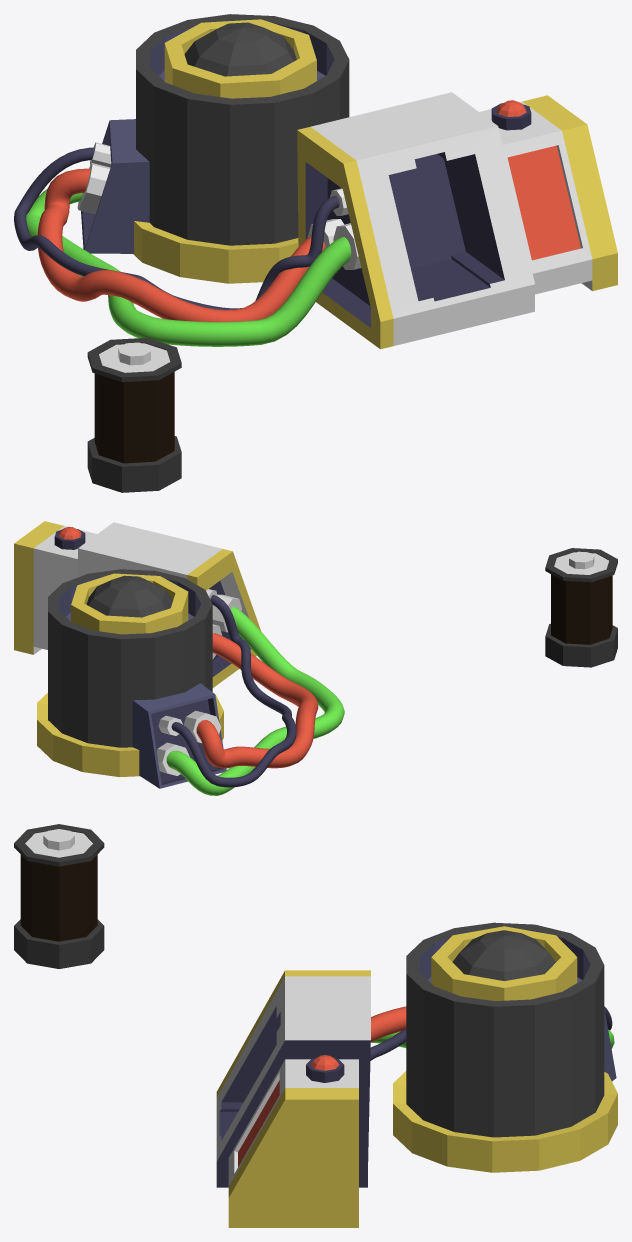
Rendered from Battery_Hub.glb.
3 views of the same model, one above another, from view 1: azimuth 30°, elevation 25°; view 2: azimuth 150°, elevation 25°; view 3: azimuth 270°, elevation 25° (orthographic). The views are drawn at different scales.
Visible parts, largest first — view 1: Cube, Cylinder.001, BézierCurve.001, BézierCurve, BézierCurve.002; view 2: Cube, Cylinder.001, BézierCurve.001, BézierCurve, BézierCurve.002; view 3: Cube, Cylinder.001, BézierCurve.001, BézierCurve.002.
Boxes of the visible parts, box(x1,y1,x2,y2) form: Cube: box(77, 14, 617, 349); Cylinder.001: box(87, 337, 181, 492); BézierCurve.001: box(37, 168, 325, 321); BézierCurve: box(26, 189, 351, 346); BézierCurve.002: box(14, 147, 339, 309); Cube: box(14, 521, 261, 788); Cylinder.001: box(545, 548, 617, 667); BézierCurve.001: box(196, 633, 318, 768); BézierCurve: box(166, 606, 344, 795); BézierCurve.002: box(171, 595, 296, 787); Cube: box(216, 922, 617, 1227); Cylinder.001: box(14, 824, 104, 968); BézierCurve.001: box(371, 1006, 406, 1042); BézierCurve.002: box(370, 1006, 612, 1060).
Bounding box in the file's own units: 19.39 × 6.15 × 17.73.
